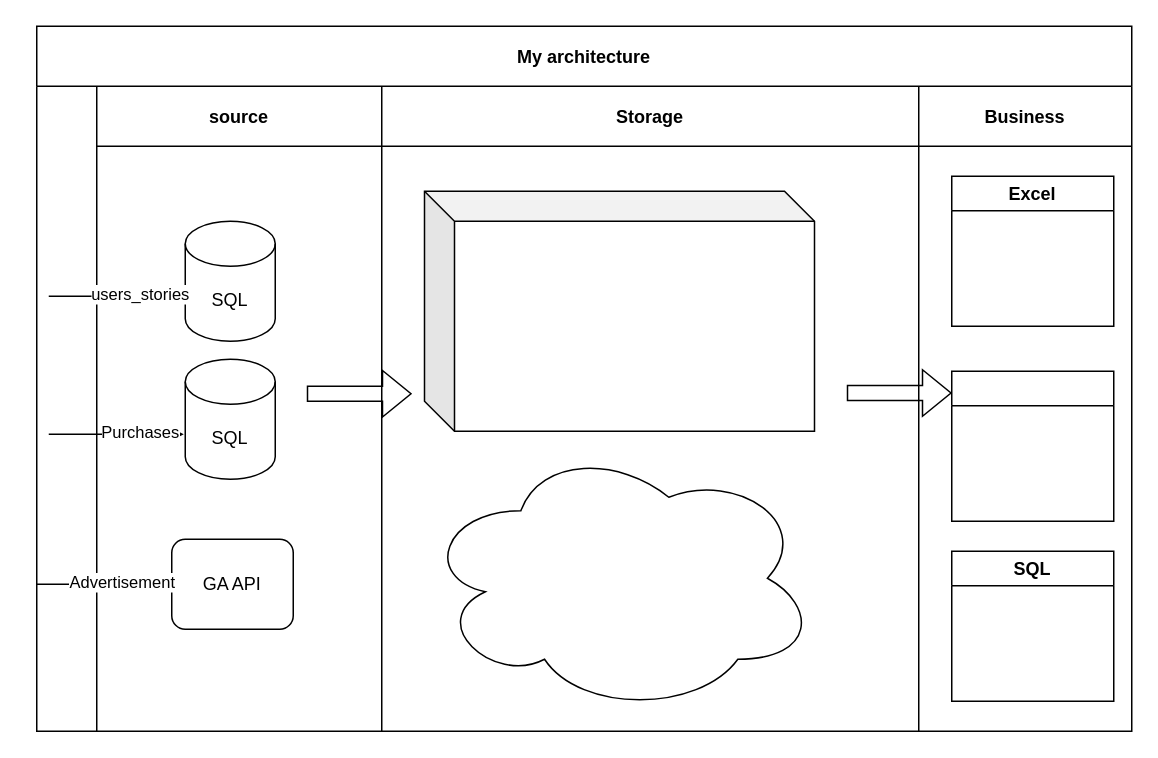
This 1158x758 diagram has some shape labels left out. The centre of each missing label's shape, as x and y in pixels:
"DL" belongs at point (619, 577).
"DWH" belongs at point (618, 310).
"Qlik" belongs at point (1032, 445).
